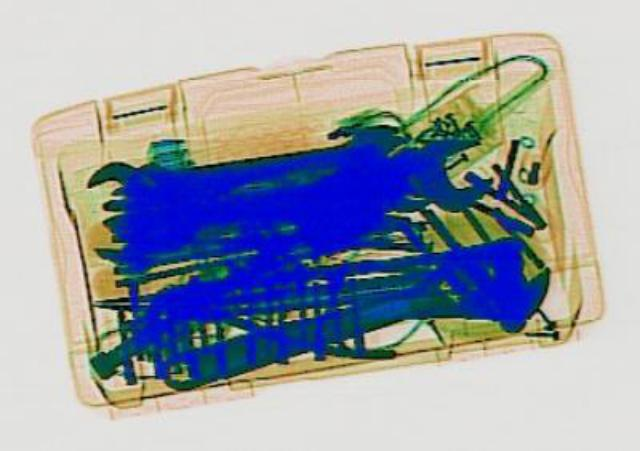Wrench: (136, 225, 582, 428), (77, 117, 420, 211), (268, 130, 510, 241)
